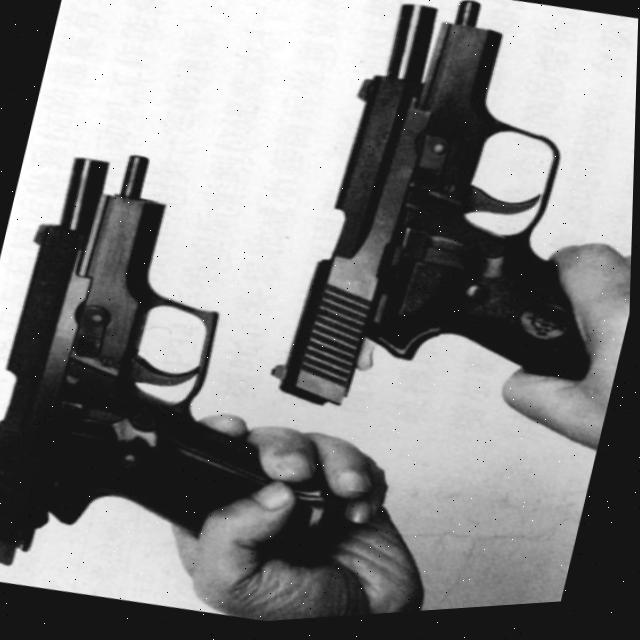pistol: (0, 122, 412, 634), (267, 0, 640, 460)
